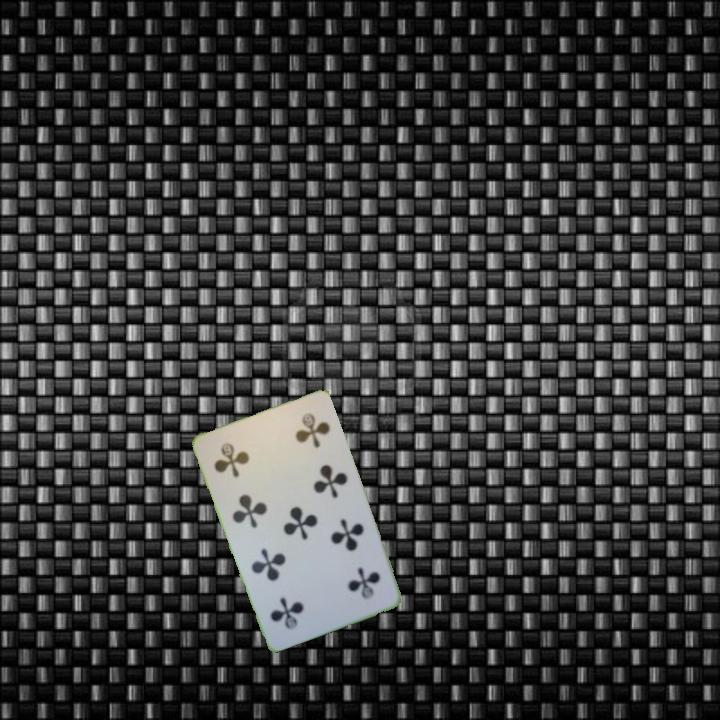c_9.png: (312, 544, 393, 620), (202, 421, 283, 497)
